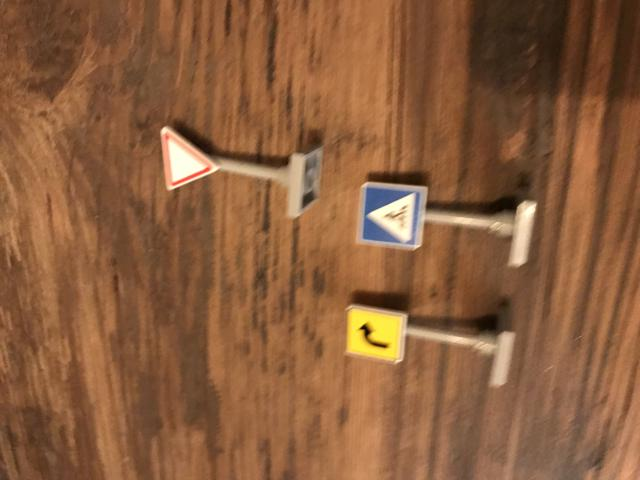fahrtrichtung rechts: (344, 303, 409, 366)
fußgängerüberweg: (358, 181, 432, 251)
vorfahrt gewähren: (162, 126, 217, 191)
